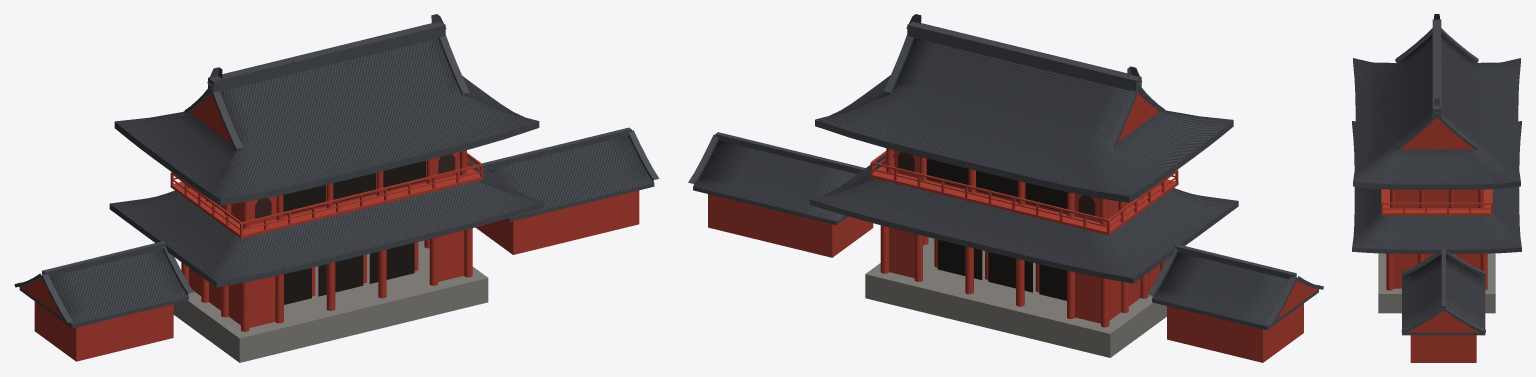
File: zojoji_sangedatsumon.glb
The picture shows the model from 3 angles, left to right: view 1: azimuth 30°, elevation 25°; view 2: azimuth 150°, elevation 25°; view 3: azimuth 270°, elevation 25°; orthographic projection. The views are drawn at different scales.
Parts seen in each view (by area): view 1: Sangedatsumon_Near; view 2: Sangedatsumon_Near; view 3: Sangedatsumon_Near.
Boxes of the visible parts, bbox=[...] form: Sangedatsumon_Near: bbox=[14, 14, 659, 362]; Sangedatsumon_Near: bbox=[688, 14, 1323, 362]; Sangedatsumon_Near: bbox=[1352, 14, 1521, 362].
Size of the model in its own units: 55.8 by 23.7 by 17.51.
9 materials, 1 textured.
